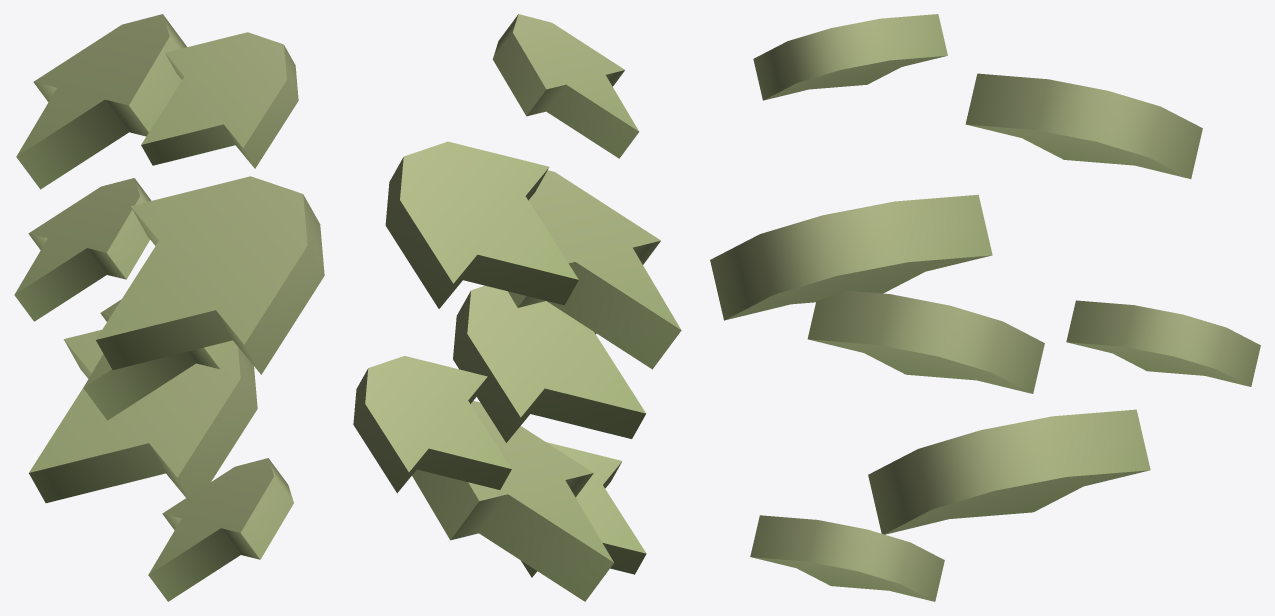
The model's file is wall-ivy (%wall).glb.
3 views of the same model, side by side, from view 1: azimuth 30°, elevation 25°; view 2: azimuth 150°, elevation 25°; view 3: azimuth 270°, elevation 25° (orthographic). The views are drawn at different scales.
Visible parts, largest first — view 1: wall-ivy (%wall); view 2: wall-ivy (%wall); view 3: wall-ivy (%wall).
Part boxes in pixels (x1,y1,x2,y2): wall-ivy (%wall): (14, 14, 324, 601); wall-ivy (%wall): (353, 14, 681, 601); wall-ivy (%wall): (710, 14, 1260, 601).
Bounding box in the file's own units: 0.1845 × 0.4366 × 0.3486.
